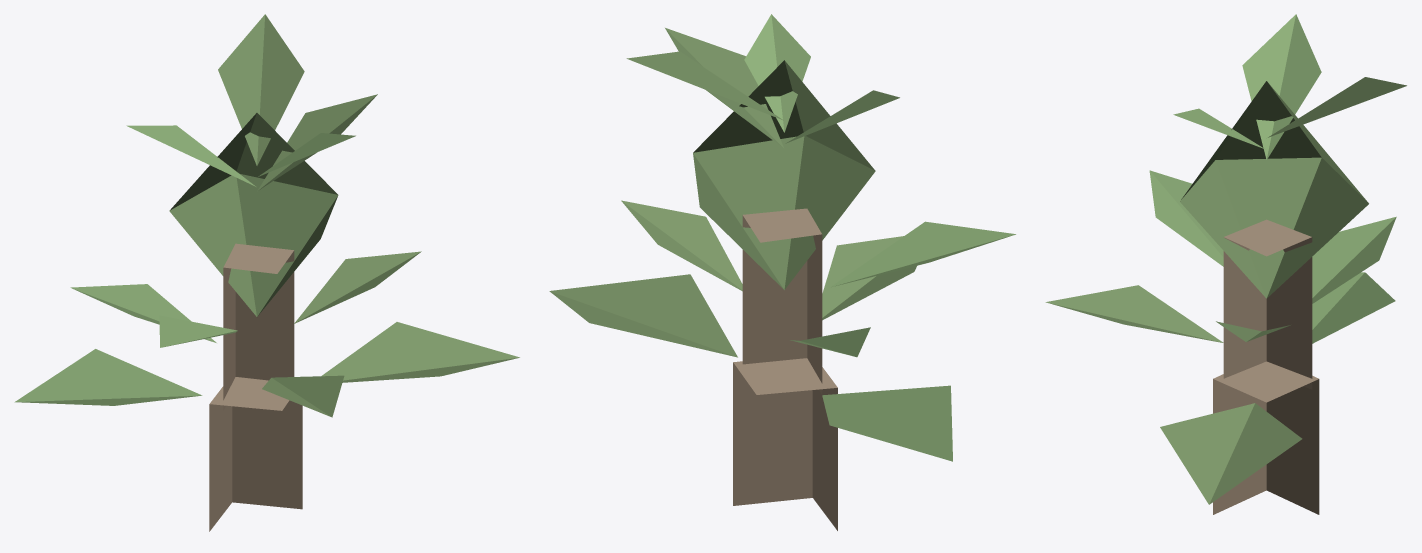
File: guan.zhizi@seedling__spring.glb
The picture shows the model from 3 angles, left to right: view 1: azimuth 30°, elevation 25°; view 2: azimuth 150°, elevation 25°; view 3: azimuth 270°, elevation 25°; orthographic projection. The views are drawn at different scales.
Parts seen in each view (by area): view 1: guan.zhizi@seedling__spring; view 2: guan.zhizi@seedling__spring; view 3: guan.zhizi@seedling__spring.
Boxes of the visible parts, x1,y1,x2,y2 form: guan.zhizi@seedling__spring: (14,14,519,531); guan.zhizi@seedling__spring: (549,14,1015,530); guan.zhizi@seedling__spring: (1045,14,1406,514).
Bounding box in the file's own units: 0.1548 × 0.1503 × 0.1055.
